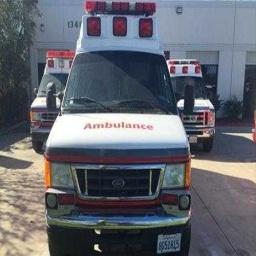Ambulance: (44, 1, 190, 255), (30, 51, 74, 152), (167, 59, 214, 151)
